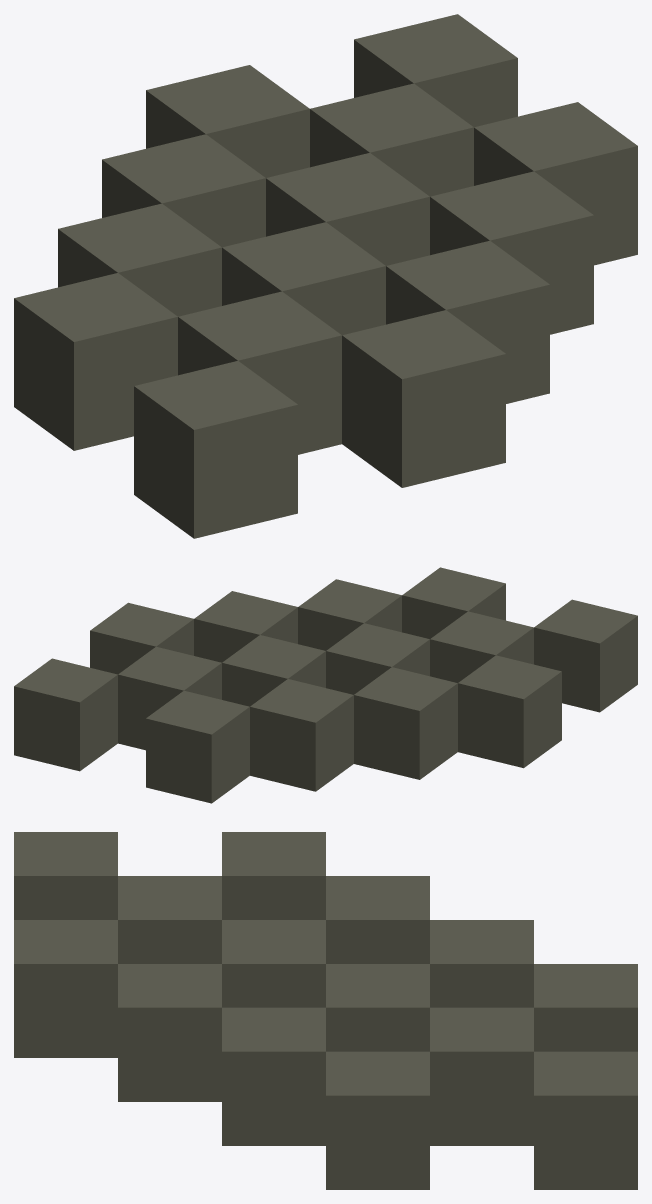
The model's file is Sieve.fbx.
3 views of the same model, one above another, from view 1: azimuth 30°, elevation 25°; view 2: azimuth 150°, elevation 25°; view 3: azimuth 270°, elevation 25° (orthographic). The views are drawn at different scales.
Parts seen in each view (by area): view 1: Sieve; view 2: Sieve; view 3: Sieve.
Part boxes in pixels (left/top/right/bottom): Sieve: left=14, top=14, right=637, bottom=538; Sieve: left=14, top=567, right=637, bottom=803; Sieve: left=14, top=832, right=637, bottom=1189.
Bounding box in the file's own units: 75 × 12.5 × 75.
